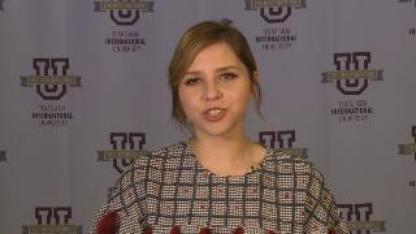person: (98, 15, 353, 234)
